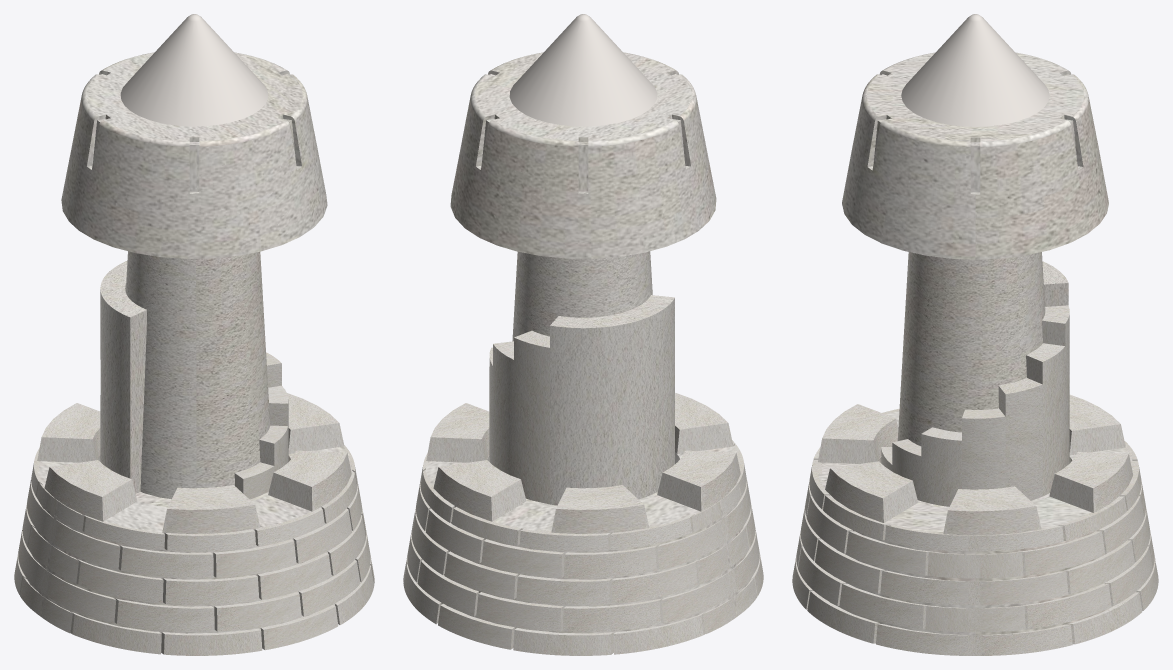
Rendered from castle1.glb.
The picture shows the model from 3 angles, left to right: view 1: azimuth 30°, elevation 25°; view 2: azimuth 150°, elevation 25°; view 3: azimuth 270°, elevation 25°; orthographic projection.
Parts seen in each view (by area): view 1: model_01; view 2: model_01; view 3: model_01.
Boxes of the visible parts, x1,y1,x2,y2 form: model_01: [14, 14, 374, 655]; model_01: [403, 14, 763, 655]; model_01: [792, 14, 1158, 655].
Bounding box in the file's own units: 0.072 × 0.1261 × 0.074.
1 material, 1 textured.
